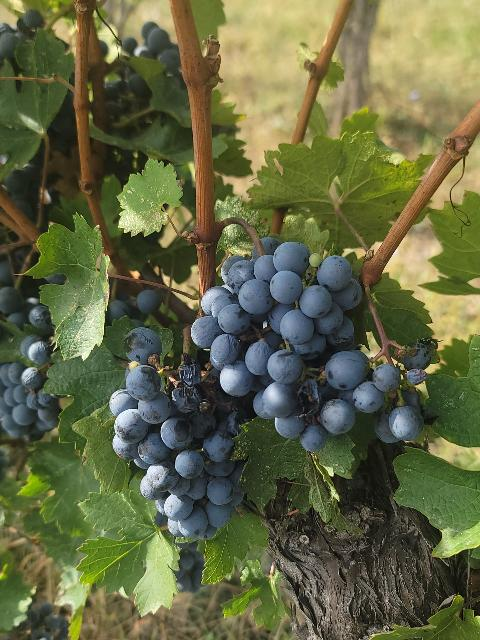grapes: (191, 239, 361, 452), (109, 328, 243, 540), (320, 338, 438, 442)
